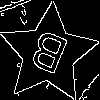B: (23, 29, 71, 84)
